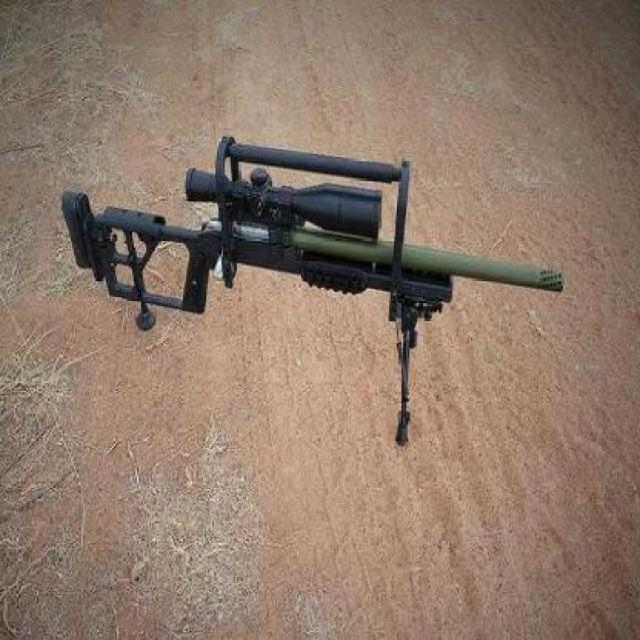Rifle: (30, 130, 596, 450)
